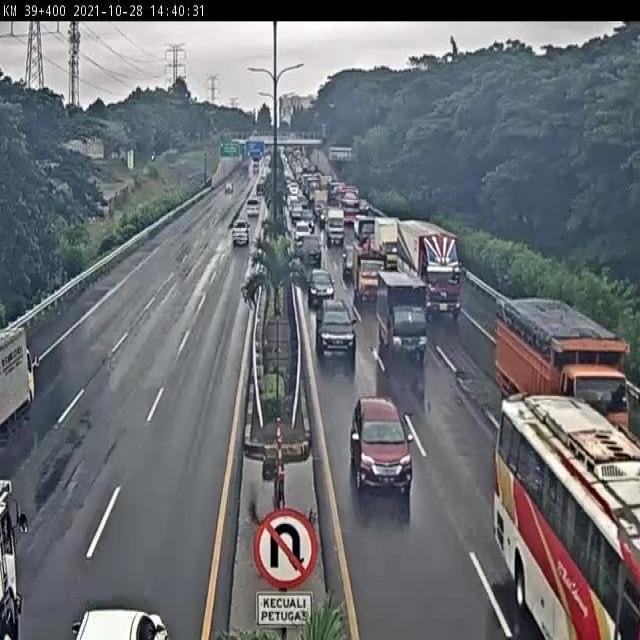bus-l-: (498, 394, 640, 640)
car: (351, 398, 413, 494), (316, 296, 356, 357), (306, 268, 335, 308), (299, 236, 322, 268)
truck-l-: (496, 299, 629, 444), (394, 219, 460, 316)
truck-m-: (379, 273, 428, 359), (354, 251, 386, 304), (373, 215, 399, 273)
